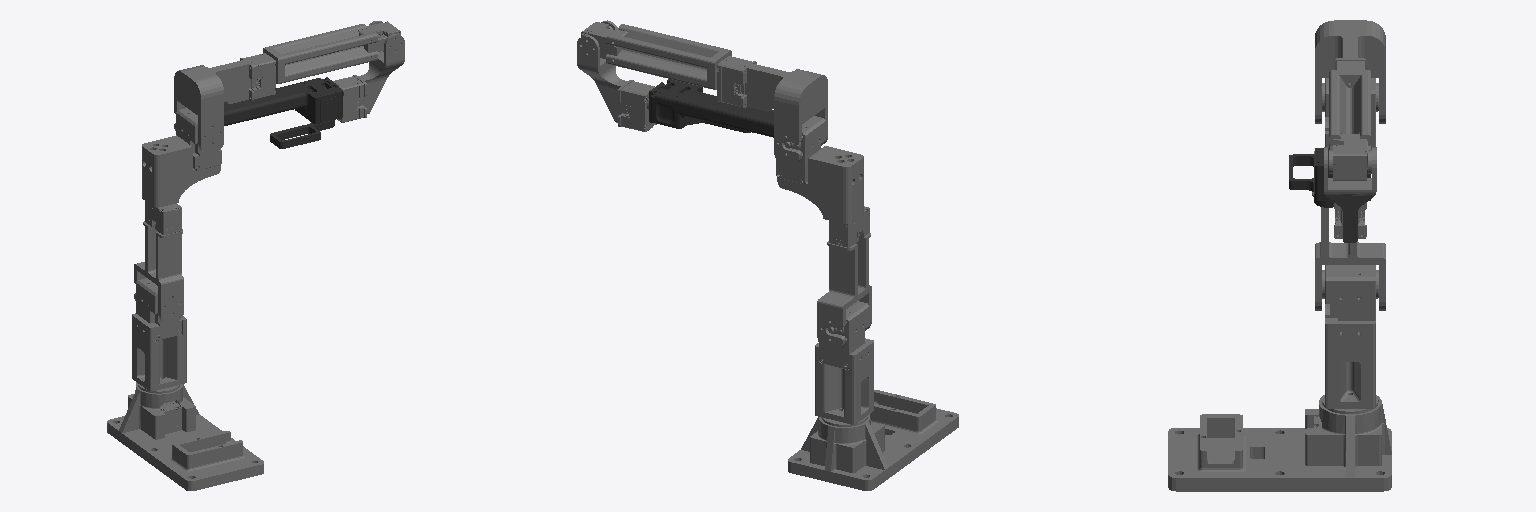
URDF robot description (factr_teleop_franka):
<?xml version="1.0" encoding="utf-8"?>
<robot
  name="factr_teleop_franka">
  <link
    name="base_link">
    <inertial>
      <origin
        xyz="-0.00011 -0.02855 0.01863"
        rpy="0 0 0" />
      <mass
        value="0.215" />
      <inertia
        ixx="0.00042191703999999995"
        ixy="-1.4126099999999999e-06"
        ixz="3.381e-08"
        iyy="0.00013079891"
        iyz="-7.026067e-05"
        izz="0.00044713047" />
    </inertial>
    <visual>
      <origin
        xyz="0 0 0"
        rpy="0 0 0" />
      <geometry>
        <mesh
          filename="meshes/base_link.STL" />
      </geometry>
      <material
        name="">
        <color
          rgba="0.49804 0.49804 0.49804 1" />
      </material>
    </visual>
    <collision>
      <origin
        xyz="0 0 0"
        rpy="0 0 0" />
      <geometry>
        <mesh
          filename="meshes/base_link.STL" />
      </geometry>
    </collision>
  </link>
  <link
    name="link_1">
    <inertial>
      <origin
        xyz="0.0 0.02439 0.0004"
        rpy="0 0 0" />
      <mass
        value="0.115" />
      <inertia
        ixx="8.901396e-05"
        ixy="-0.0"
        ixz="-0.0"
        iyy="2.125741e-05"
        iyz="5.9353e-07"
        izz="8.784972e-05" />
    </inertial>
    <visual>
      <origin
        xyz="0 0 0"
        rpy="0 0 0" />
      <geometry>
        <mesh
          filename="meshes/link_1.STL" />
      </geometry>
      <material
        name="">
        <color
          rgba="0.50196 0.50196 0.50196 1" />
      </material>
    </visual>
    <collision>
      <origin
        xyz="0 0 0"
        rpy="0 0 0" />
      <geometry>
        <mesh
          filename="meshes/link_1.STL" />
      </geometry>
    </collision>
  </link>
  <joint
    name="joint_1"
    type="revolute">
    <origin
      xyz="0 0 0.13525"
      rpy="-1.5708 0 0" />
    <parent
      link="base_link" />
    <child
      link="link_1" />
    <axis
      xyz="0 -1 0" />
    <limit
      lower="-2.8973"
      upper="2.8973"
      effort="0.92"
      velocity="6.8" />
  </joint>
  <link
    name="link_2">
    <inertial>
      <origin
        xyz="5e-05 -0.00563 0.05863"
        rpy="0 0 0" />
      <mass
        value="0.042" />
      <inertia
        ixx="4.888724e-05"
        ixy="-5.247e-08"
        ixz="1.1211e-07"
        iyy="4.3692040000000004e-05"
        iyz="2.74388e-06"
        izz="8.3539e-06" />
    </inertial>
    <visual>
      <origin
        xyz="0 0 0"
        rpy="0 0 0" />
      <geometry>
        <mesh
          filename="meshes/link_2.STL" />
      </geometry>
      <material
        name="">
        <color
          rgba="0.50196 0.50196 0.50196 1" />
      </material>
    </visual>
    <collision>
      <origin
        xyz="0 0 0"
        rpy="0 0 0" />
      <geometry>
        <mesh
          filename="meshes/link_2.STL" />
      </geometry>
    </collision>
  </link>
  <joint
    name="joint_2"
    type="revolute">
    <origin
      xyz="0 0 0"
      rpy="1.5708 0 0" />
    <parent
      link="link_1" />
    <child
      link="link_2" />
    <axis
      xyz="0 1 0" />
    <limit
      lower="-1.7628"
      upper="1.7628"
      effort="0.92"
      velocity="6.8" />
  </joint>
  <link
    name="link_3">
    <inertial>
      <origin
        xyz="-0.03382 0.00041 -0.04571"
        rpy="0 0 0" />
      <mass
        value="0.113" />
      <inertia
        ixx="4.4500849999999996e-05"
        ixy="3.4593000000000003e-07"
        ixz="-1.575217e-05"
        iyy="6.479292e-05"
        iyz="2.9787e-07"
        izz="4.1141010000000005e-05" />
    </inertial>
    <visual>
      <origin
        xyz="0 0 0"
        rpy="0 0 0" />
      <geometry>
        <mesh
          filename="meshes/link_3.STL" />
      </geometry>
      <material
        name="">
        <color
          rgba="0.50196 0.50196 0.50196 1" />
      </material>
    </visual>
    <collision>
      <origin
        xyz="0 0 0"
        rpy="0 0 0" />
      <geometry>
        <mesh
          filename="meshes/link_3.STL" />
      </geometry>
    </collision>
  </link>
  <joint
    name="joint_3"
    type="revolute">
    <origin
      xyz="0 0 0.09425"
      rpy="-3.1416 0 3.1416" />
    <parent
      link="link_2" />
    <child
      link="link_3" />
    <axis
      xyz="0 0 -1" />
    <limit
      lower="-2.8973"
      upper="2.8973"
      effort="0.92"
      velocity="6.8" />
  </joint>
  <link
    name="link_4">
    <inertial>
      <origin
        xyz="-0.03202 0.032420000000000004 0.00013000000000000002"
        rpy="0 0 0" />
      <mass
        value="0.051" />
      <inertia
        ixx="5.129189e-05"
        ixy="3.7090300000000004e-06"
        ixz="-2.1098e-07"
        iyy="1.417375e-05"
        iyz="2.4664e-07"
        izz="5.412985e-05" />
    </inertial>
    <visual>
      <origin
        xyz="0 0 0"
        rpy="0 0 0" />
      <geometry>
        <mesh
          filename="meshes/link_4.STL" />
      </geometry>
      <material
        name="">
        <color
          rgba="0.50196 0.50196 0.50196 1" />
      </material>
    </visual>
    <collision>
      <origin
        xyz="0 0 0"
        rpy="0 0 0" />
      <geometry>
        <mesh
          filename="meshes/link_4.STL" />
      </geometry>
    </collision>
  </link>
  <joint
    name="joint_4"
    type="revolute">
    <origin
      xyz="-0.04125 0 -0.06374"
      rpy="-1.5708 0 -3.1416" />
    <parent
      link="link_3" />
    <child
      link="link_4" />
    <axis
      xyz="0 0 1" />
    <limit
      lower="-3.0718"
      upper="-0.0698"
      effort="0.92"
      velocity="6.8" />
  </joint>
  <link
    name="link_5">
    <inertial>
      <origin
        xyz="0.0 0.0001 0.07795999999999999"
        rpy="0 0 0" />
      <mass
        value="0.048" />
      <inertia
        ixx="7.589592e-05"
        ixy="5.1e-10"
        ixz="2.8199999999999998e-09"
        iyy="7.49895e-05"
        iyz="-1.6106000000000001e-07"
        izz="5.4057600000000006e-06" />
    </inertial>
    <visual>
      <origin
        xyz="0 0 0"
        rpy="0 0 0" />
      <geometry>
        <mesh
          filename="meshes/link_5.STL" />
      </geometry>
      <material
        name="">
        <color
          rgba="0.50196 0.50196 0.50196 1" />
      </material>
    </visual>
    <collision>
      <origin
        xyz="0 0 0"
        rpy="0 0 0" />
      <geometry>
        <mesh
          filename="meshes/link_5.STL" />
      </geometry>
    </collision>
  </link>
  <joint
    name="joint_5"
    type="revolute">
    <origin
      xyz="-0.04125 0.0735 0"
      rpy="-1.5708 0 0" />
    <parent
      link="link_4" />
    <child
      link="link_5" />
    <axis
      xyz="0 0 1" />
    <limit
      lower="-2.8973"
      upper="2.8973"
      effort="0.92"
      velocity="6.8" />
  </joint>
  <link
    name="link_6">
    <inertial>
      <origin
        xyz="0.04378 -0.02846 0.0"
        rpy="0 0 0" />
      <mass
        value="0.035" />
      <inertia
        ixx="1.1852440000000001e-05"
        ixy="6.85499e-06"
        ixz="-1.4199999999999999e-09"
        iyy="1.1023870000000001e-05"
        iyz="1.6200000000000002e-09"
        izz="1.958864e-05" />
    </inertial>
    <visual>
      <origin
        xyz="0 0 0"
        rpy="0 0 0" />
      <geometry>
        <mesh
          filename="meshes/link_6.STL" />
      </geometry>
      <material
        name="">
        <color
          rgba="0.50196 0.50196 0.50196 1" />
      </material>
    </visual>
    <collision>
      <origin
        xyz="0 0 0"
        rpy="0 0 0" />
      <geometry>
        <mesh
          filename="meshes/link_6.STL" />
      </geometry>
    </collision>
  </link>
  <joint
    name="joint_6"
    type="revolute">
    <origin
      xyz="0 0 0.1185"
      rpy="1.5708 0 0" />
    <parent
      link="link_5" />
    <child
      link="link_6" />
    <axis
      xyz="0 0 1" />
    <limit
      lower="-0.0175"
      upper="3.7525"
      effort="0.92"
      velocity="6.8" />
  </joint>
  <link
    name="link_7">
    <inertial>
      <origin
        xyz="-0.0009599999999999999 -0.00564 -0.03933"
        rpy="0 0 0" />
      <mass
        value="0.051" />
      <inertia
        ixx="6.82626e-05"
        ixy="2.19768e-06"
        ixz="-4.663569999999999e-06"
        iyy="6.539764e-05"
        iyz="4.19546e-06"
        izz="1.085574e-05" />
    </inertial>
    <visual>
      <origin
        xyz="0 0 0"
        rpy="0 0 0" />
      <geometry>
        <mesh
          filename="meshes/link_7.STL" />
      </geometry>
      <material
        name="">
        <color
          rgba="0.25098 0.25098 0.25098 1" />
      </material>
    </visual>
    <collision>
      <origin
        xyz="0 0 0"
        rpy="0 0 0" />
      <geometry>
        <mesh
          filename="meshes/link_7.STL" />
      </geometry>
    </collision>
  </link>
  <joint
    name="joint_7"
    type="revolute">
    <origin
      xyz="0.04402 -0.0535 0"
      rpy="-1.5708 0 0" />
    <parent
      link="link_6" />
    <child
      link="link_7" />
    <axis
      xyz="0 0 -1" />
    <limit
      lower="-2.8973"
      upper="2.8973"
      effort="0.92"
      velocity="6.8" />
  </joint>
</robot>

--- Render facts (derived) ---
The picture shows the robot from 3 angles, left to right: view 1: azimuth 30°, elevation 25°; view 2: azimuth 150°, elevation 25°; view 3: azimuth 270°, elevation 25°; orthographic projection.
Robot: factr_teleop_franka — 8 links, 7 joints (7 revolute); root link base_link; default pose: joints at zero except 1 at the middle of their limits (joint_4 = -1.57).
Links seen in each view (by area): view 1: base_link, link_4, link_3, link_1, link_5, link_7, link_2, link_6; view 2: base_link, link_4, link_3, link_1, link_5, link_2, link_7, link_6; view 3: base_link, link_1, link_5, link_4, link_6, link_2, link_7, link_3.
Boxes of the visible links, x1,y1,x2,y2 form: base_link: (107,382,263,490); link_4: (174,53,275,153); link_3: (142,108,221,207); link_1: (132,278,186,391); link_5: (263,21,400,83); link_7: (224,77,342,148); link_2: (134,201,183,323); link_6: (333,21,404,122); base_link: (788,390,958,490); link_4: (717,56,827,165); link_3: (776,116,863,223); link_1: (815,301,873,424); link_5: (581,22,731,89); link_2: (817,206,871,351); link_7: (649,79,773,137); link_6: (577,20,656,131); base_link: (1168,395,1391,491); link_1: (1322,265,1378,408); link_5: (1329,70,1371,180); link_4: (1315,20,1385,123); link_6: (1324,147,1376,242); link_2: (1312,151,1385,310); link_7: (1289,148,1370,207); link_3: (1322,78,1378,149).
Size in the robot's own frame: 0.2833 by 0.15 by 0.3475 metres.
8 mesh visuals loaded from 8 distinct referenced files (8 binary STL).